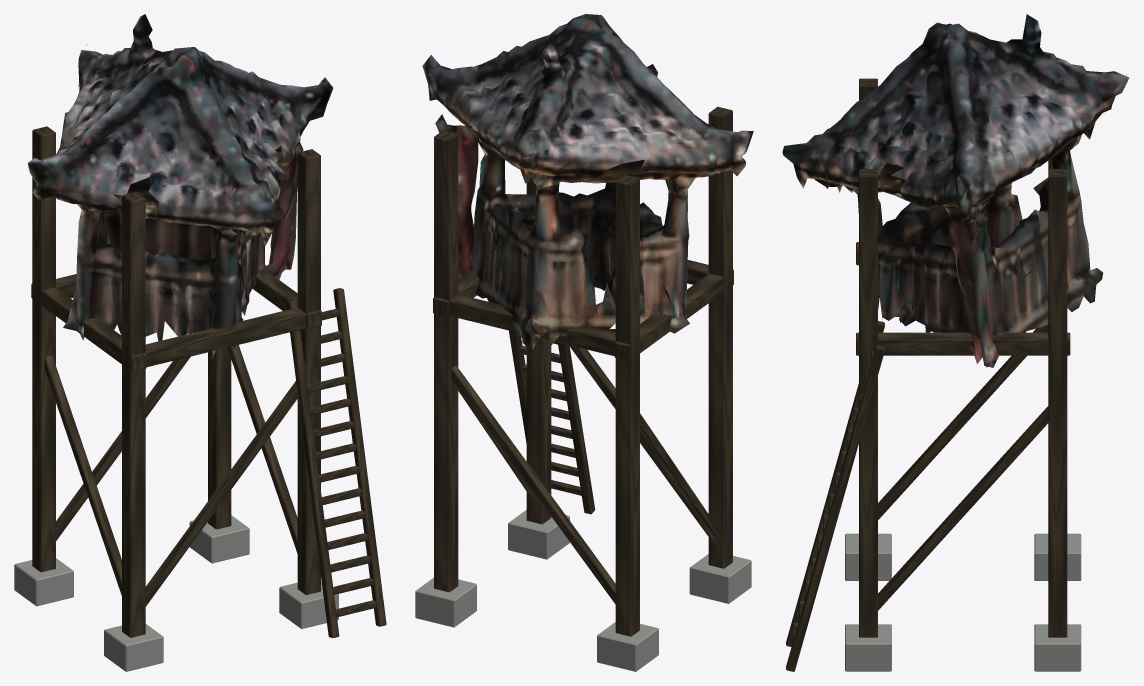
The model's file is focused.glb.
3 renders of one model, left to right at view 1: azimuth 30°, elevation 25°; view 2: azimuth 150°, elevation 25°; view 3: azimuth 270°, elevation 25°, orthographic. The views are drawn at different scales.
Parts seen in each view (by area): view 1: Forge_watchtower, Straight_support, Straight_support.001, Straight_support.002, Straight_support.003, Platform_crossbeam, Ladder_rail, Ladder_rail.001, Brace, Side_brace, Side_brace.001, Stone_foot (+6 smaller); view 2: Forge_watchtower, Straight_support.001, Straight_support.003, Straight_support, Straight_support.002, Brace.001, Platform_crossbeam.001, Stone_foot, Stone_foot.001, Stone_foot.003, Side_crossbeam, Ladder_rail (+6 smaller); view 3: Forge_watchtower, Straight_support.003, Straight_support.002, Side_crossbeam.001, Ladder_rail.001, Side_brace.001, Side_brace, Stone_foot.003, Stone_foot.002, Stone_foot.001, Stone_foot, Ladder_rail.
Boxes of the visible parts, bbox=[...] form: Forge_watchtower: bbox=[27, 14, 333, 361]; Straight_support: bbox=[122, 192, 145, 637]; Straight_support.001: bbox=[32, 126, 55, 572]; Straight_support.002: bbox=[297, 149, 320, 594]; Straight_support.003: bbox=[208, 311, 231, 529]; Platform_crossbeam: bbox=[145, 308, 305, 366]; Ladder_rail: bbox=[286, 299, 339, 637]; Ladder_rail.001: bbox=[333, 288, 386, 626]; Brace: bbox=[145, 381, 298, 606]; Side_brace: bbox=[44, 355, 121, 595]; Side_brace.001: bbox=[227, 345, 297, 553]; Stone_foot: bbox=[104, 624, 163, 671]; Forge_watchtower: bbox=[422, 14, 753, 349]; Straight_support.001: bbox=[615, 174, 639, 636]; Straight_support.003: bbox=[434, 130, 458, 592]; Straight_support: bbox=[708, 106, 732, 568]; Straight_support.002: bbox=[526, 180, 551, 524]; Brace.001: bbox=[451, 365, 615, 604]; Platform_crossbeam.001: bbox=[449, 294, 615, 356]; Stone_foot: bbox=[689, 554, 751, 603]; Stone_foot.001: bbox=[597, 622, 658, 671]; Stone_foot.003: bbox=[415, 577, 476, 627]; Side_crossbeam: bbox=[614, 269, 733, 361]; Ladder_rail: bbox=[557, 342, 595, 514]; Forge_watchtower: bbox=[782, 14, 1129, 367]; Straight_support.003: bbox=[1048, 169, 1067, 637]; Straight_support.002: bbox=[859, 169, 877, 637]; Side_crossbeam.001: bbox=[856, 332, 1070, 355]; Ladder_rail.001: bbox=[786, 345, 884, 671]; Side_brace.001: bbox=[878, 406, 1048, 610]; Side_brace: bbox=[878, 325, 1048, 519]; Stone_foot.003: bbox=[1034, 624, 1081, 671]; Stone_foot.002: bbox=[845, 624, 891, 671]; Stone_foot.001: bbox=[1034, 533, 1081, 580]; Stone_foot: bbox=[845, 533, 891, 580]; Ladder_rail: bbox=[786, 321, 884, 646].
Bounding box in the file's own units: 4.6 × 8.07 × 4.22.
Materials: 3 (2 with a texture image).
